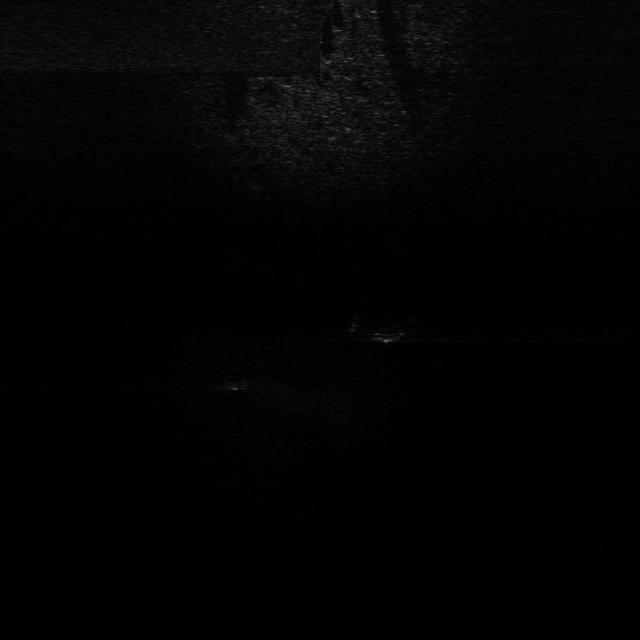ball: (218, 363, 263, 393)
human body: (346, 307, 426, 349)
